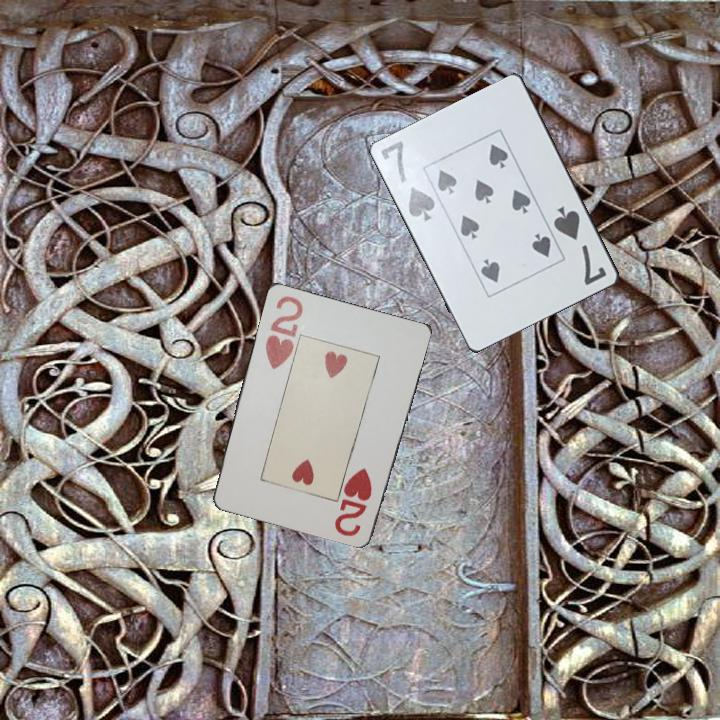2h: (261, 292, 306, 372), (333, 464, 375, 539)
7s: (377, 137, 442, 225), (550, 202, 610, 289)
